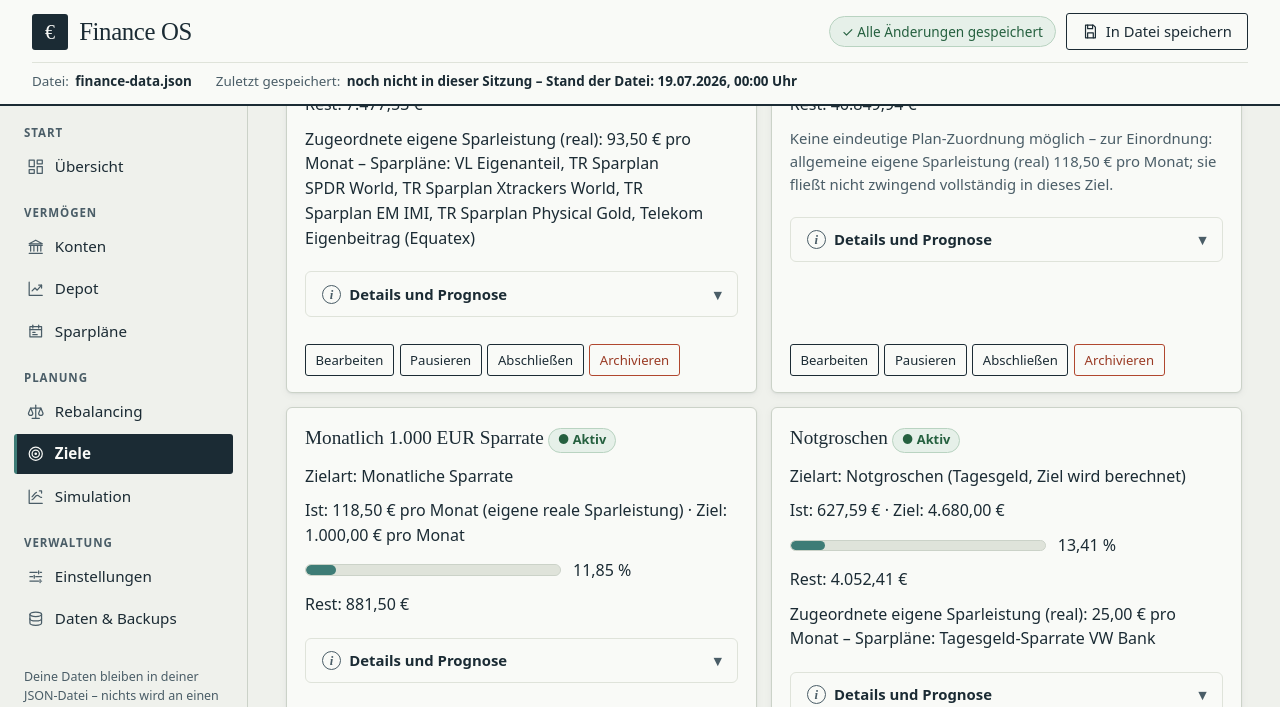
Scenario: GoalsPage – Statusaktionen (Bestätigung + Dirty-Vergleich) › Abschließen speichert den MANUELLEN Abschluss (Begründung im Dialog); Status bleibt bei sinkendem Ist
This screenshot has width=1280, height=707.
(page scrolled)
Click the button with aria-label "Ziel „10.000 EUR Depot“ abschließen".
click(536, 360)  # box top-left (487, 344), bottom-right (584, 376)
(page scrolled)
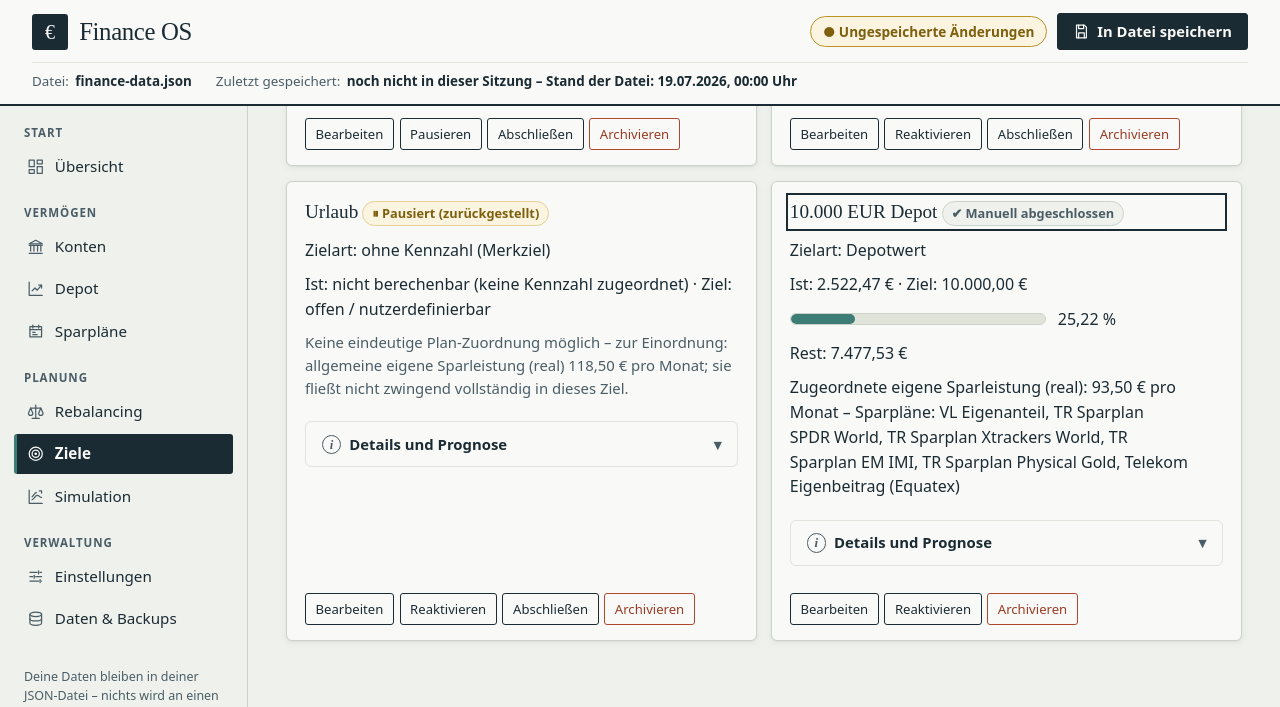
Expected: the text "✔ Manuell abgeschlossen" is shown, top-left (942, 201), bottom-right (1124, 226)
Expected: the button with aria-label "Ziel „10.000 EUR Depot“ reaktivieren" is shown, top-left (884, 593), bottom-right (982, 625)
